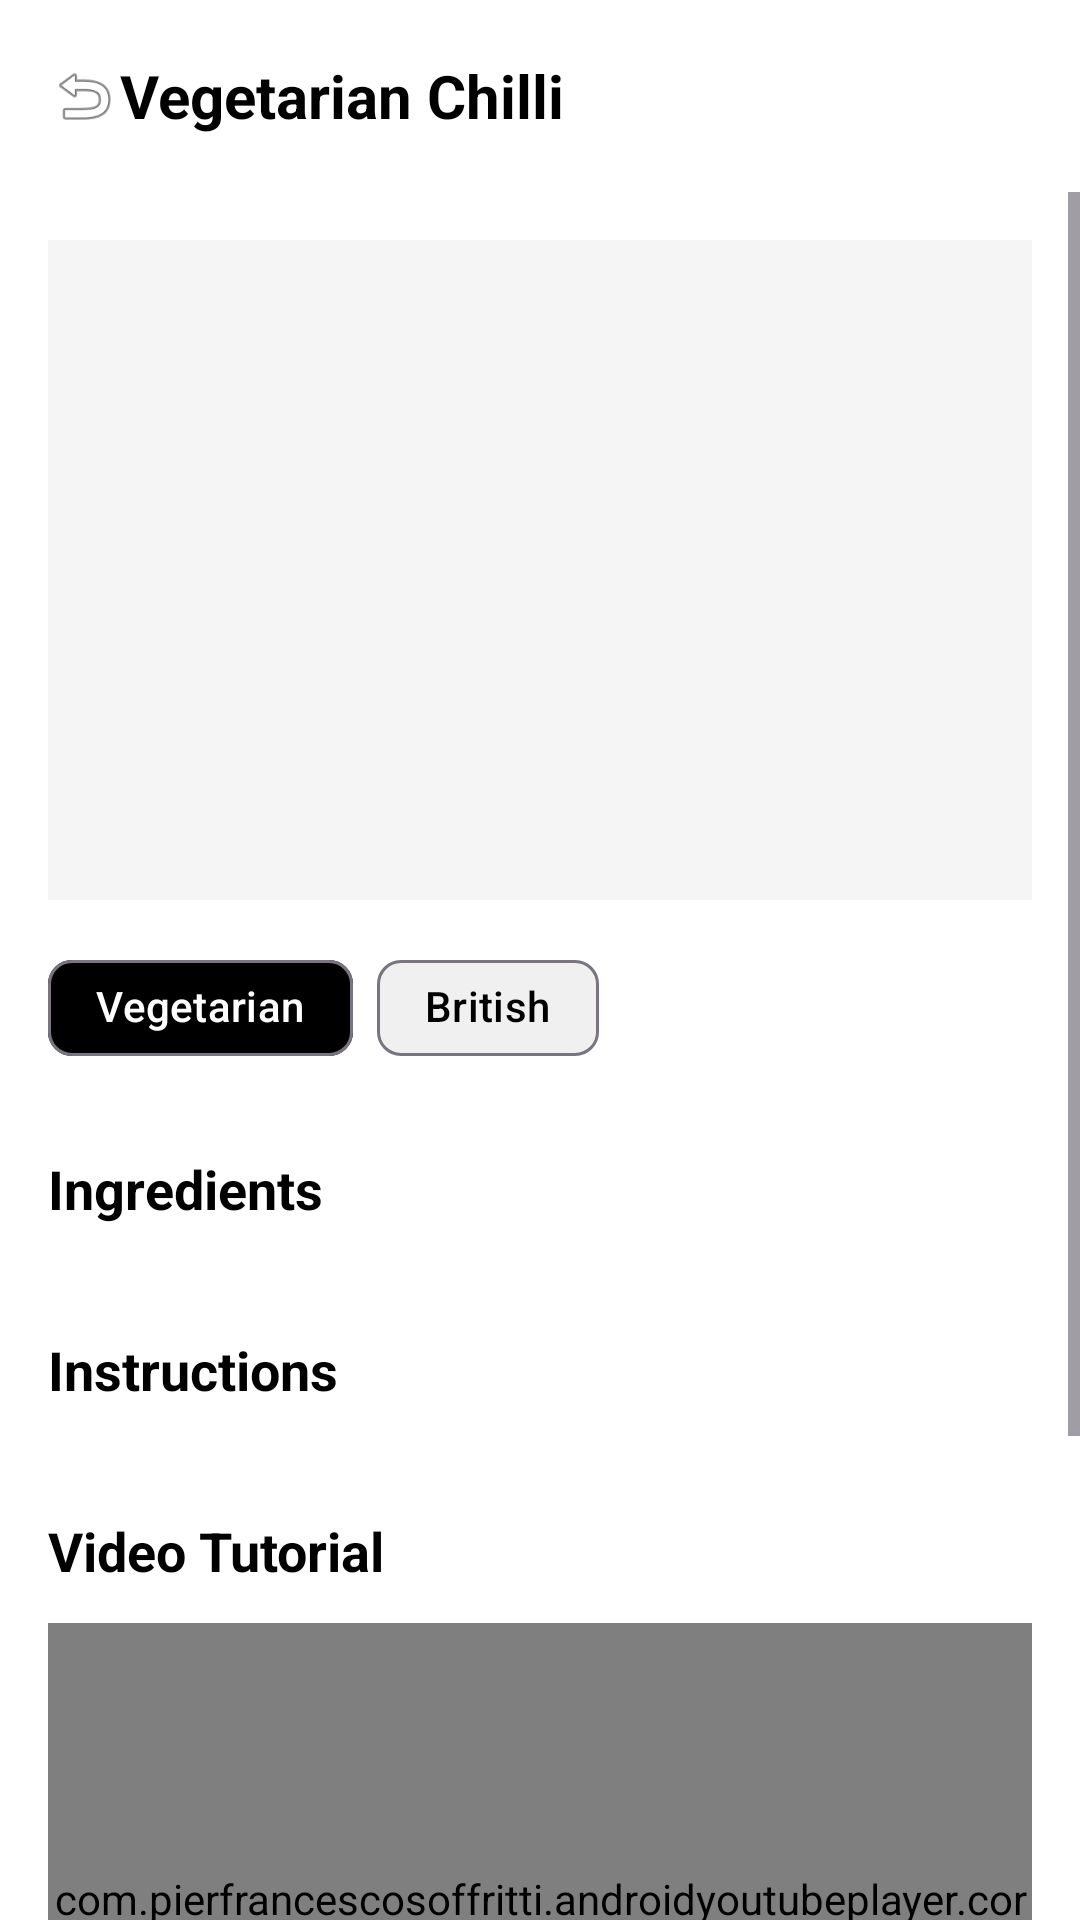

Named icons in this screenshot (1080 x 1920) and their bounding boxes, (x1, y1, x2, y2):
Back: (59, 73, 111, 120)
